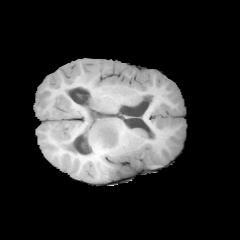glioma: (92, 119, 122, 150)
